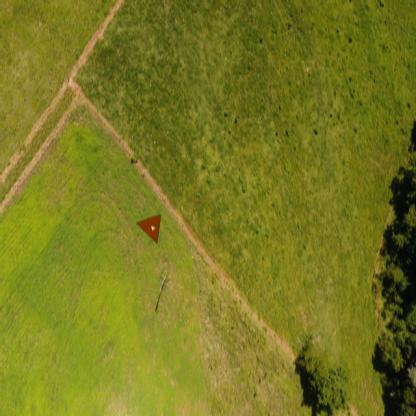A: (150, 225, 158, 233)
triangle: (135, 212, 162, 244)
